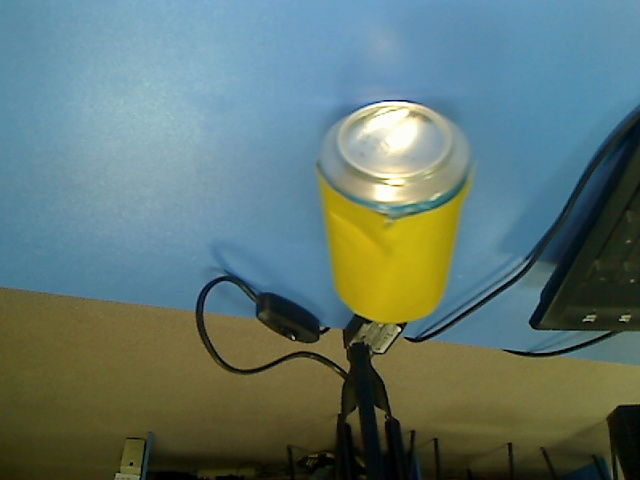can: (314, 97, 478, 326)
